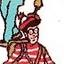waldo: (19, 13, 41, 45)
